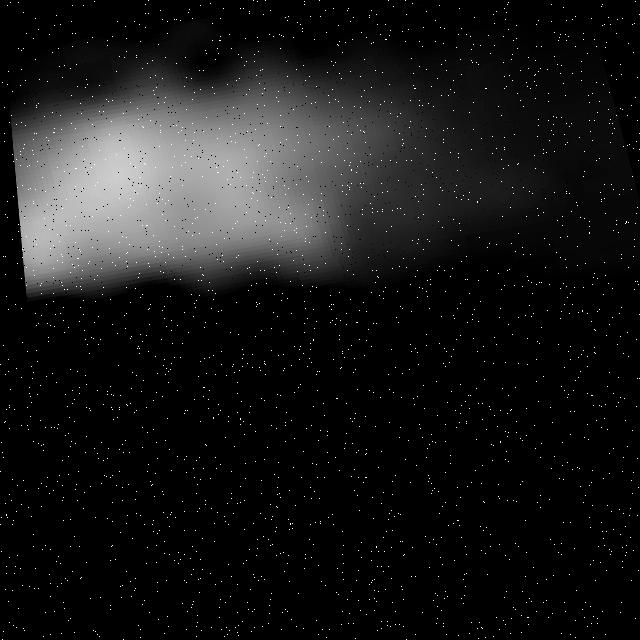person: (2, 13, 462, 351)
